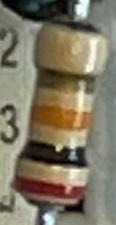Black: (17, 141, 92, 170)
Orange: (28, 104, 94, 132)
Red: (14, 173, 87, 201)
Side-Gold: (37, 64, 103, 98)
